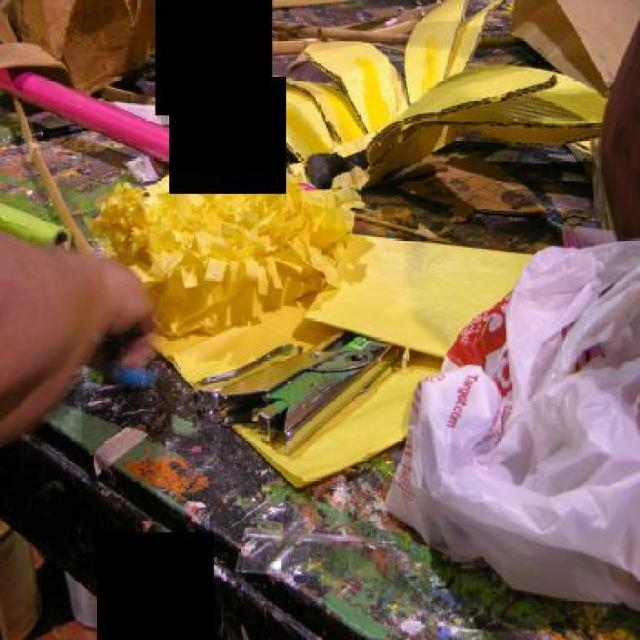plastic bag: (383, 231, 640, 609)
